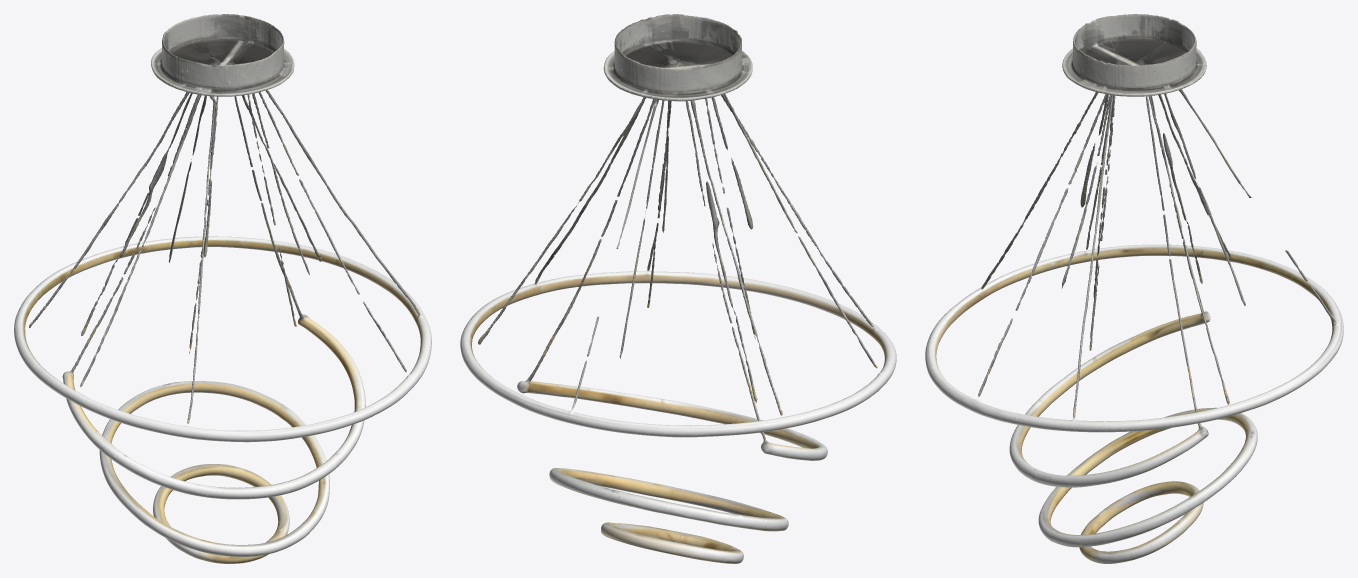
Rendered from Meshy_AI_Golden_Spiral_Chandel_0204100152_texture.glb.
The picture shows the model from 3 angles, left to right: view 1: azimuth 30°, elevation 25°; view 2: azimuth 150°, elevation 25°; view 3: azimuth 270°, elevation 25°; orthographic projection. The views are drawn at different scales.
Bounding box in the file's own units: 1.51 × 2.01 × 1.49.
1 material, 1 textured.
